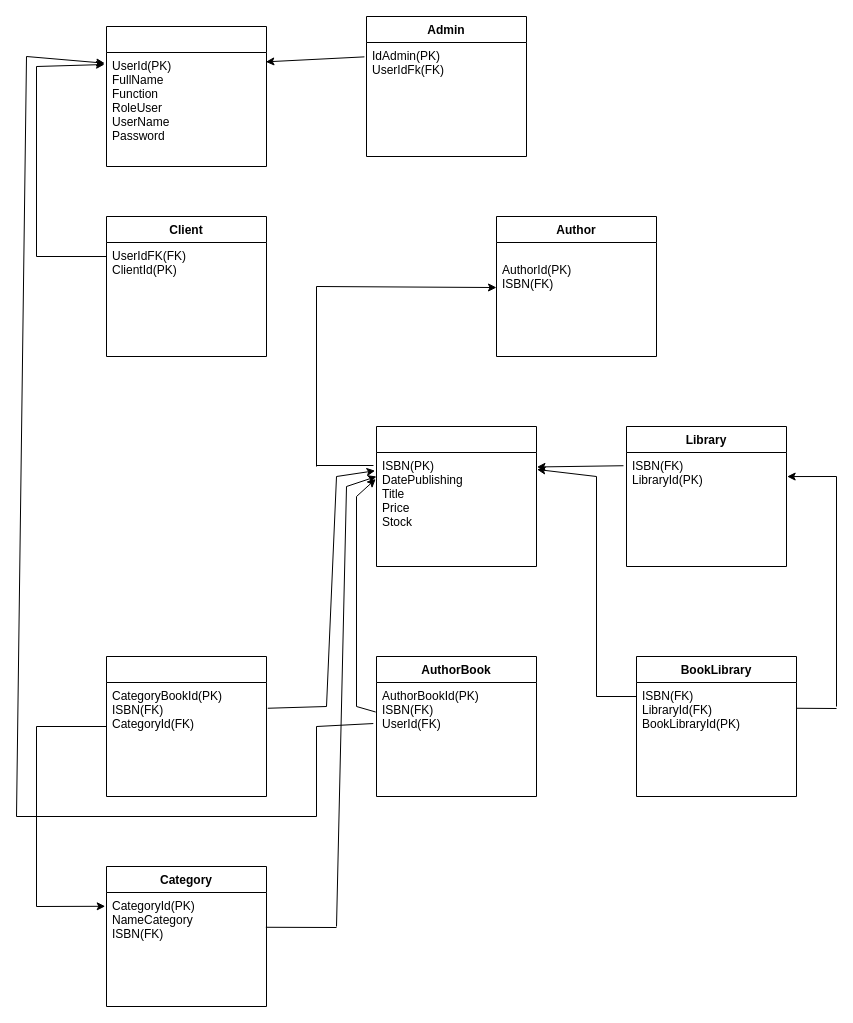
Some shapes in this 853 by 1023 pixel diagram are drawn without their labels. The box of each missing label's shape, as (x1, y1, x2, y2) in pixels:
Book: (376, 426, 536, 566)
BookCategory: (106, 656, 266, 796)
MyUsers: (106, 26, 266, 166)
